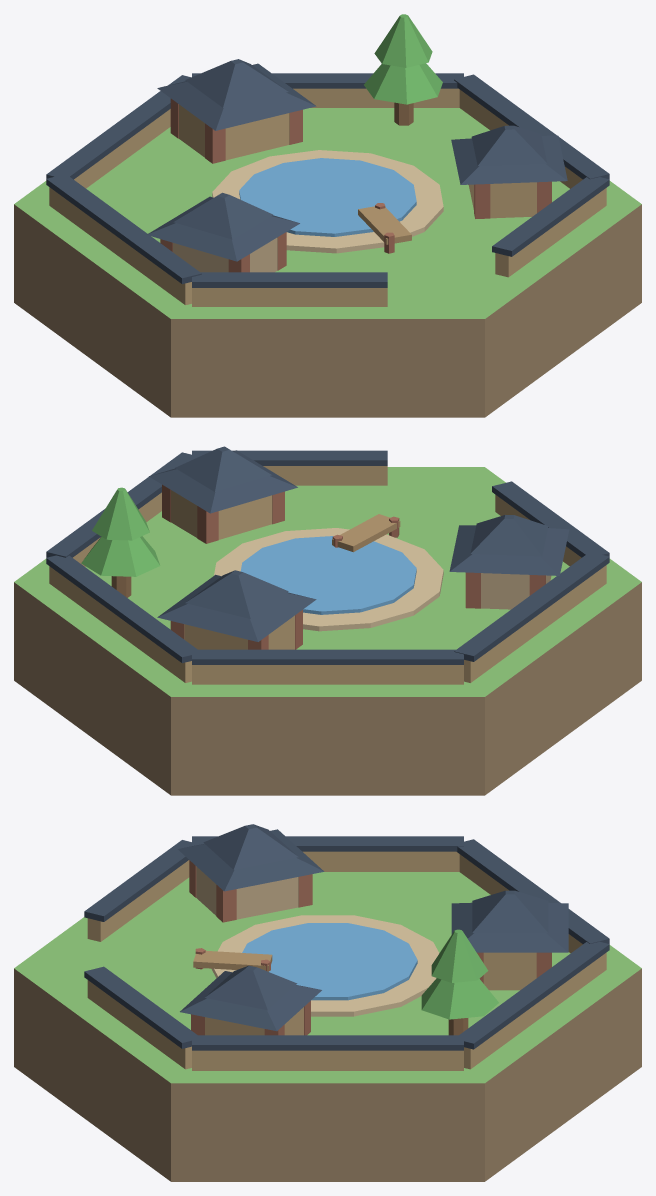
Rendered from village-4.glb.
3 renders of one model, top to bottom at view 1: azimuth 30°, elevation 25°; view 2: azimuth 150°, elevation 25°; view 3: azimuth 270°, elevation 25°, orthographic.
Parts seen in each view (by area): view 1: base, lake_water, lake_shore, fence_3_wall, fence_2_cap, house_n_eave, house_sw_eave, house_se_eave, fence_3_cap, house_n_body, fence_1_cap, fence_5_cap (+17 smaller); view 2: base, lake_water, lake_shore, fence_1_wall, fence_1_cap, fence_2_cap, house_n_eave, fence_0_cap, house_sw_eave, house_se_eave, house_n_roof, fence_2_wall (+17 smaller); view 3: base, lake_water, fence_5_wall, lake_shore, fence_5_cap, fence_0_cap, house_n_eave, house_sw_eave, fence_2_wall, house_se_eave, house_n_roof, fence_2_cap (+16 smaller).
Boxes of the visible parts, x1,y1,x2,y2 form: base: (14,108,641,417); lake_water: (239,158,416,236); lake_shore: (212,150,443,253); fence_3_wall: (192,288,387,306); fence_2_cap: (46,174,201,284); house_n_eave: (157,63,316,130); house_sw_eave: (146,196,299,261); house_se_eave: (451,135,567,184); fence_3_cap: (192,272,387,287); house_n_body: (179,104,289,160); fence_1_cap: (46,75,190,179); fence_5_cap: (454,74,609,179); base: (14,467,641,795); lake_water: (240,536,416,614); lake_shore: (214,528,443,631); fence_1_wall: (192,665,463,684); fence_1_cap: (192,649,463,664); fence_2_cap: (454,552,609,661); house_n_eave: (157,574,316,641); fence_0_cap: (46,555,197,663); house_sw_eave: (449,525,569,575); house_se_eave: (149,450,297,513); house_n_roof: (185,570,288,618); fence_2_wall: (464,565,606,682); base: (14,872,641,1181); lake_water: (242,923,417,1000); fence_5_wall: (192,1050,463,1070); lake_shore: (211,915,439,1016); fence_5_cap: (192,1035,463,1050); fence_0_cap: (459,942,609,1049); house_n_eave: (451,902,568,952); house_sw_eave: (177,829,324,891); fence_2_wall: (303,851,459,871); house_se_eave: (180,971,321,1031); house_n_roof: (472,890,548,932); fence_2_cap: (192,836,463,851).
Bounding box in the file's own units: 1 × 0.415 × 1.15.
